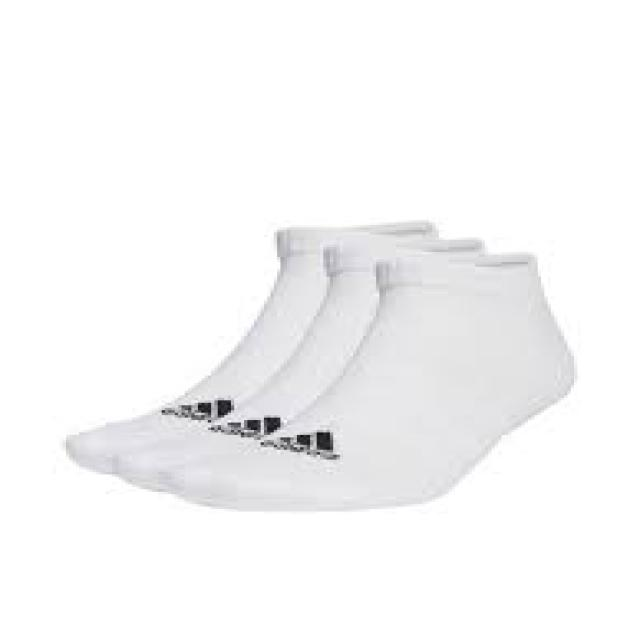sock: (63, 218, 577, 512)
